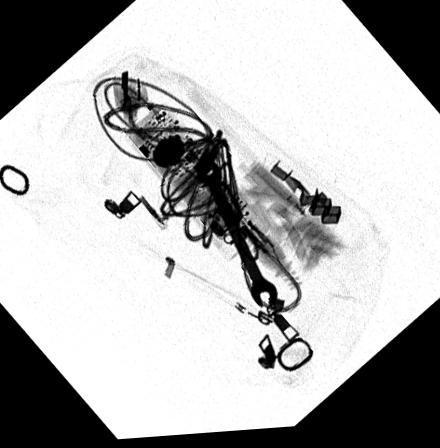Wrench: (196, 161, 278, 312)
